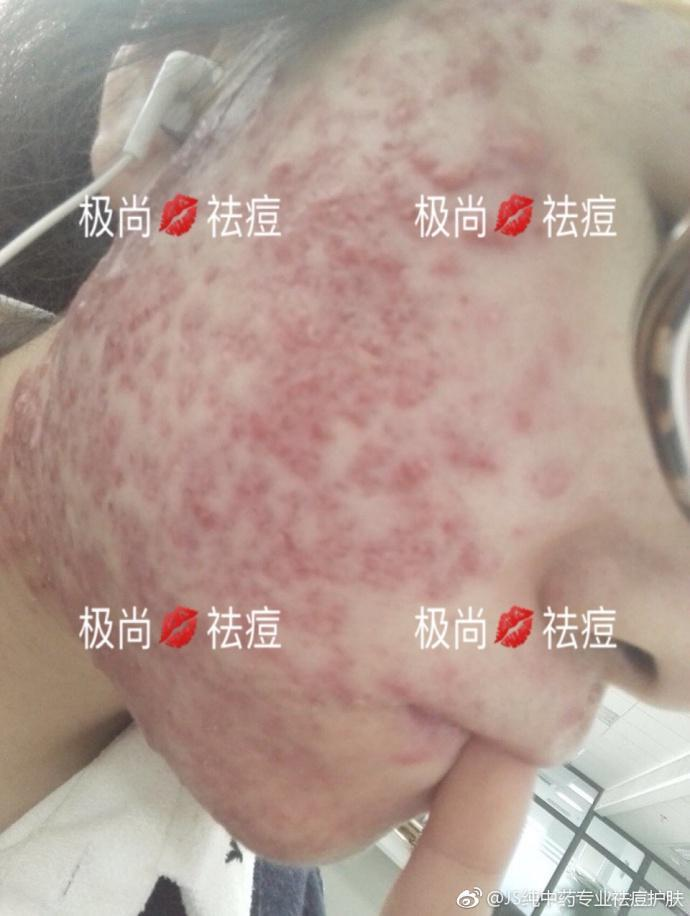fore: (445, 40, 510, 101), (286, 344, 357, 393), (382, 72, 428, 145), (404, 553, 461, 610), (451, 438, 510, 493), (87, 328, 142, 387), (233, 399, 288, 452), (55, 547, 120, 590), (245, 527, 308, 570), (365, 251, 416, 304), (176, 491, 227, 543), (103, 505, 156, 555), (355, 285, 416, 328), (252, 157, 319, 196), (294, 419, 341, 474), (484, 130, 551, 168), (442, 153, 489, 206), (215, 322, 263, 373), (329, 387, 388, 428), (307, 487, 357, 535), (502, 395, 541, 456), (134, 553, 172, 614), (420, 499, 469, 543), (325, 200, 371, 245), (375, 352, 428, 391), (529, 455, 576, 497), (81, 426, 128, 464), (8, 367, 41, 420), (349, 442, 394, 480), (271, 309, 318, 345), (315, 235, 357, 275), (87, 267, 137, 300), (392, 458, 438, 493), (394, 147, 447, 176), (8, 421, 56, 451), (426, 252, 470, 284), (572, 38, 608, 75), (235, 478, 280, 507), (436, 545, 487, 570), (391, 193, 428, 226), (176, 301, 213, 333), (170, 374, 202, 410), (315, 537, 351, 568), (356, 330, 391, 360), (269, 230, 297, 267), (361, 549, 402, 574), (134, 385, 157, 429), (324, 270, 353, 301), (286, 263, 315, 291), (151, 412, 177, 441), (195, 260, 225, 285), (321, 315, 344, 346), (65, 294, 93, 319), (187, 228, 209, 259), (107, 467, 133, 493), (84, 483, 109, 510), (334, 301, 358, 323)
